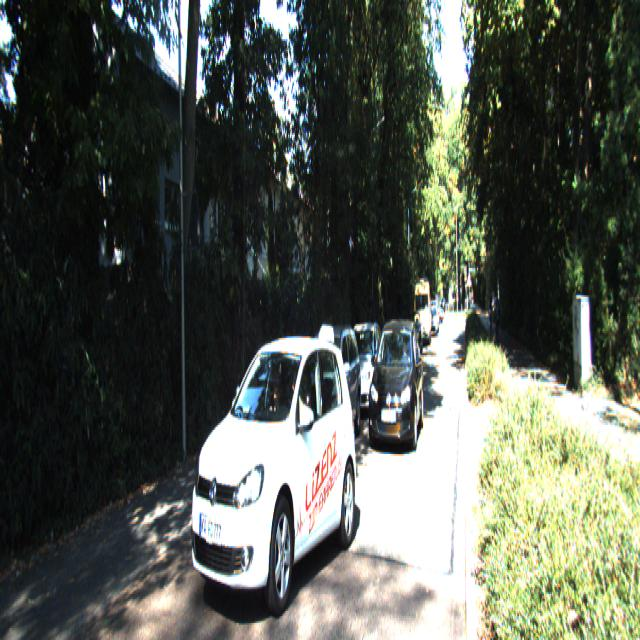Car: (174, 328, 359, 638), (290, 321, 361, 471), (365, 317, 425, 461), (337, 318, 388, 418), (375, 316, 405, 384), (413, 277, 432, 346), (405, 309, 423, 357)
